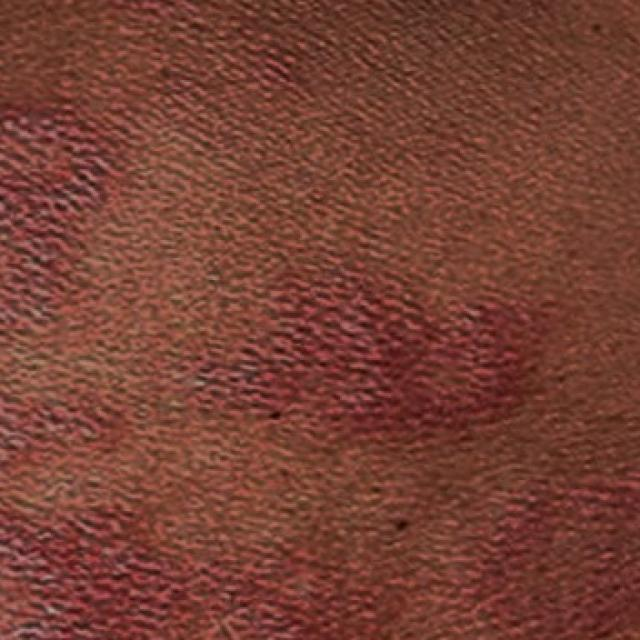Leprosy: (154, 280, 580, 454), (0, 503, 431, 640), (0, 88, 151, 348)
